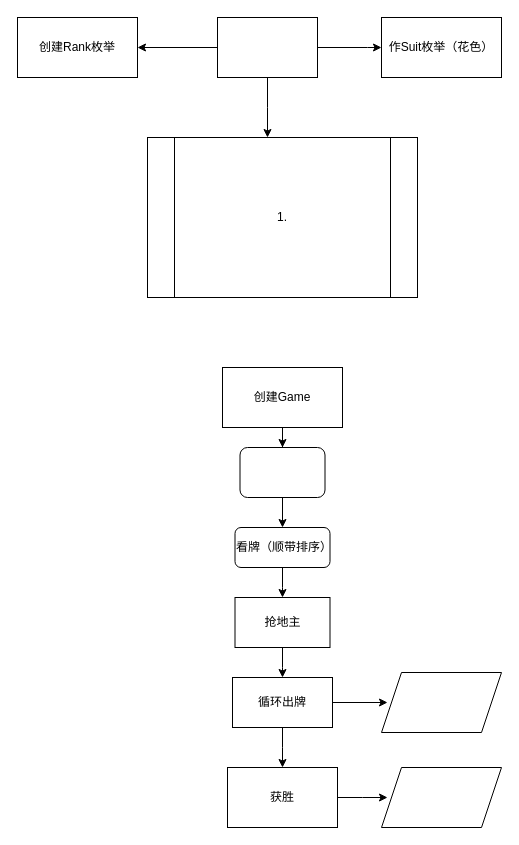
The diagram is 519 pixels wide and 845 high, and some of its shapes have lost their labels. The centre of each missing label's shape, as x and y in pixels:
创建Card类: (x=267, y=47)
把出的牌放到另一个集合里: (x=441, y=702)
洗牌: (x=282, y=472)
玩家的集合元素为0: (x=441, y=797)
